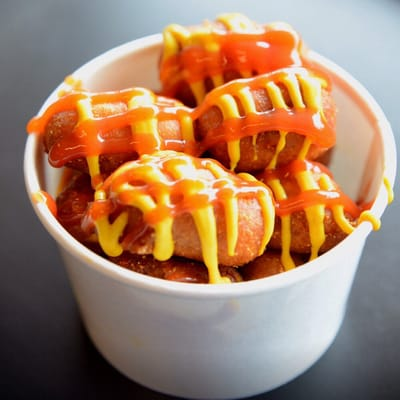sushi: (22, 11, 385, 396)
